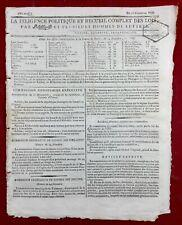paper: (8, 8, 178, 220)
